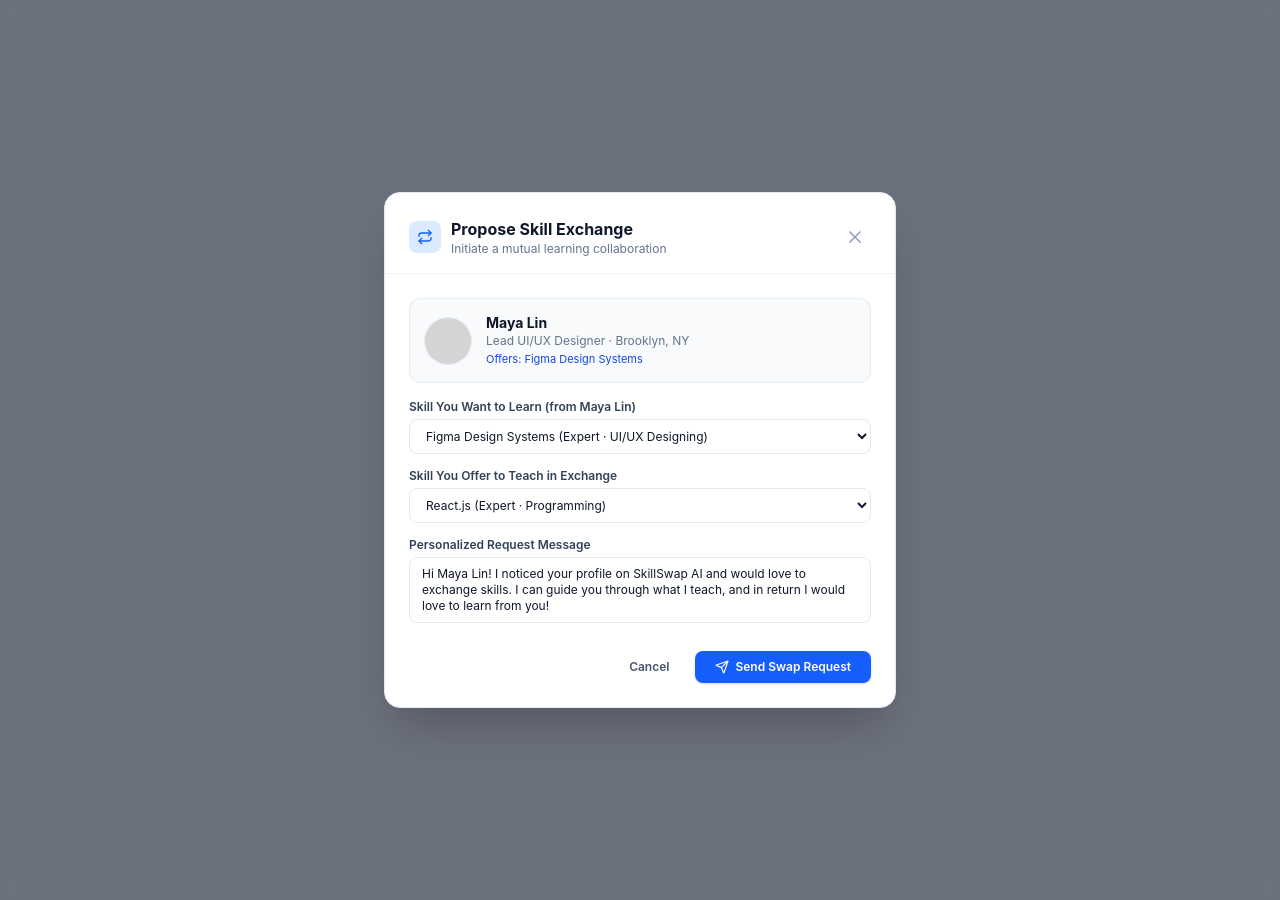
Test: SendSwapModal › shows server error message when swap request submission fails
Click the button "Send Swap Request". click: (783,667)
box: [696, 651, 871, 683]
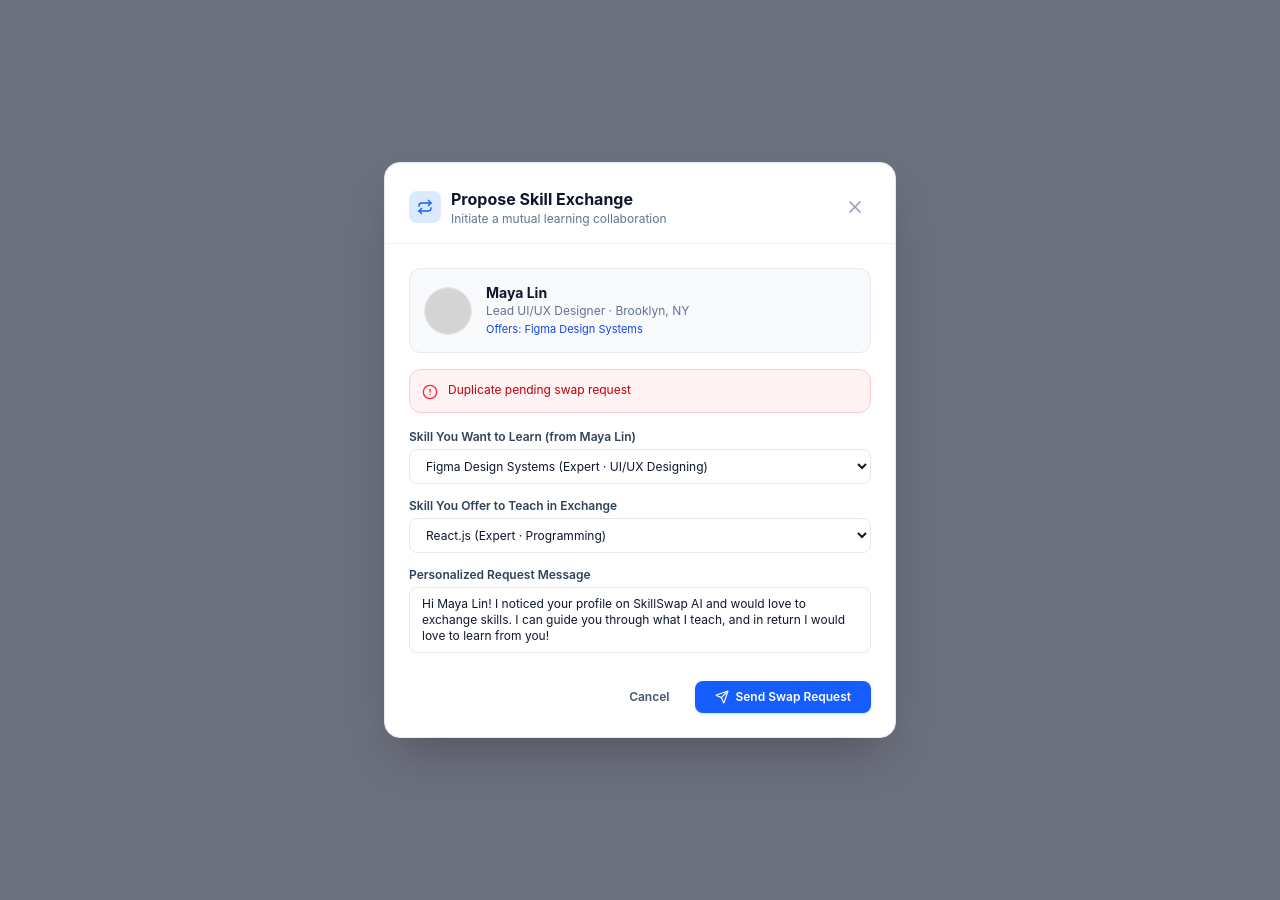
Expected: the message reads "Duplicate pending swap request", [448, 382, 631, 397]
